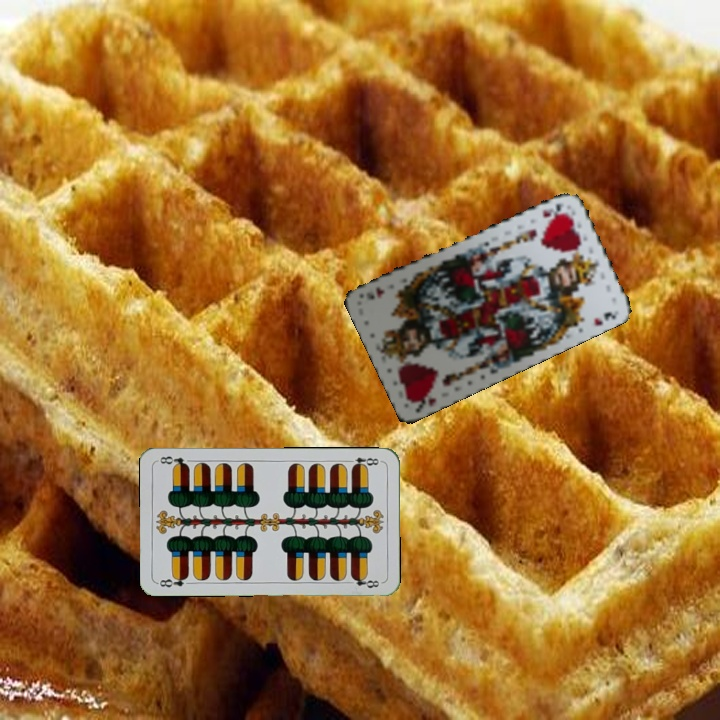E8: (343, 453, 383, 470), (156, 572, 190, 590)
HK: (407, 387, 438, 415), (539, 199, 567, 221)
